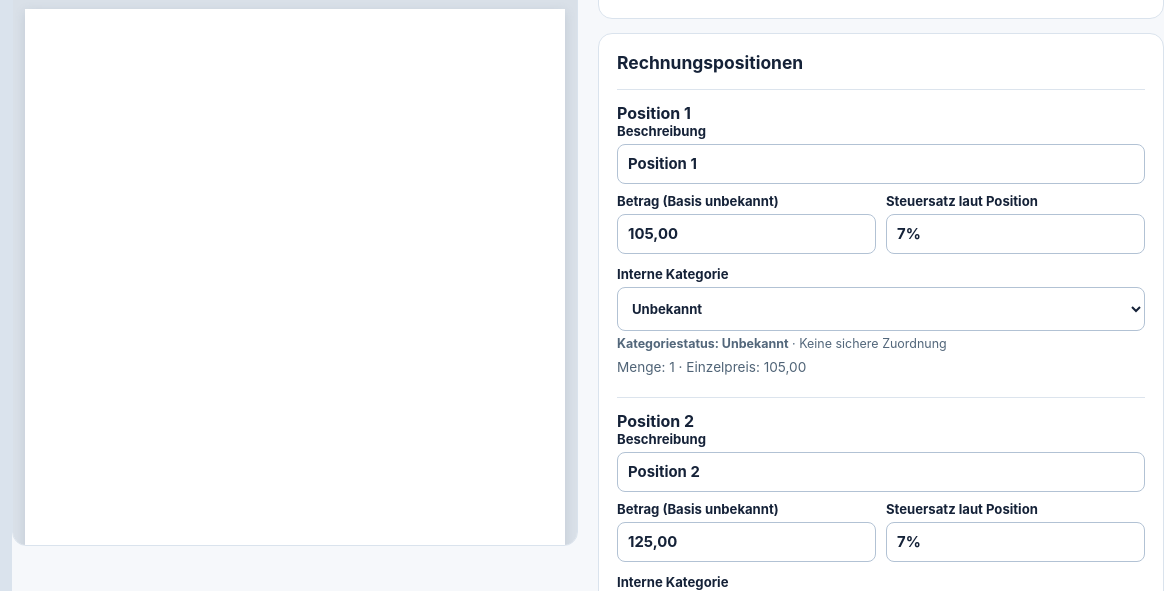
position sum in the browser invoice review › updates the category amount sum immediately after editing a position
This screenshot has width=1164, height=591.
(page scrolled)
Step 1. Replace the text in the field named "Position 1 Betrag" with "106,00" → [746, 234], box x1=617 y1=214 x2=876 y2=254
(page scrolled)
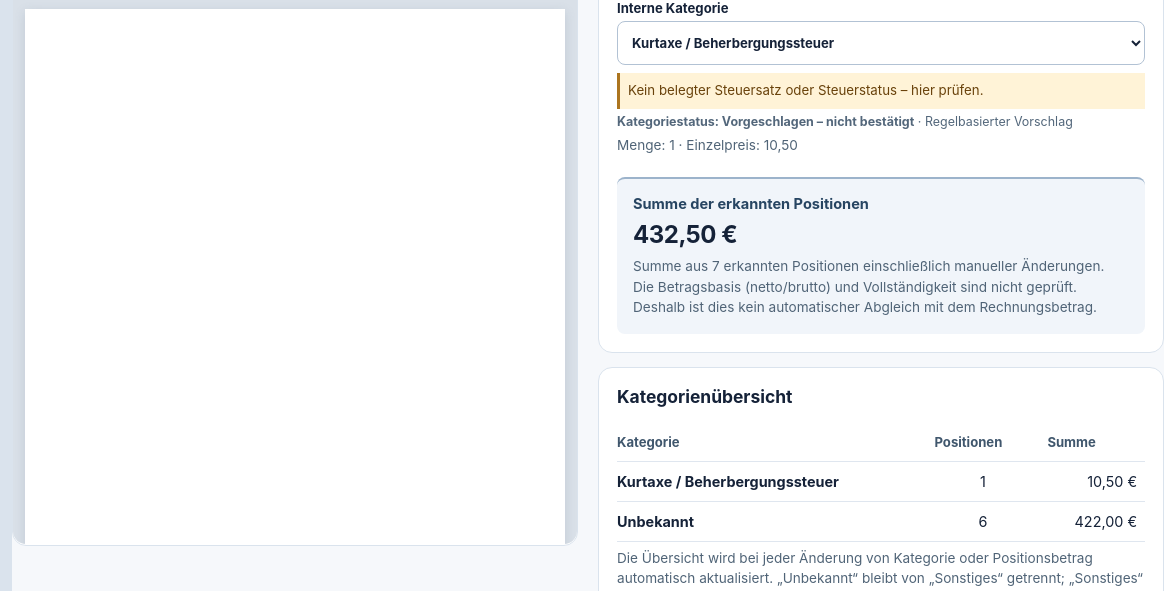
Result: the table shows "422,00 €" at x1=1075 y1=513 x2=1137 y2=530
Result: the text "432,50 €" is shown at x1=633 y1=220 x2=737 y2=250
